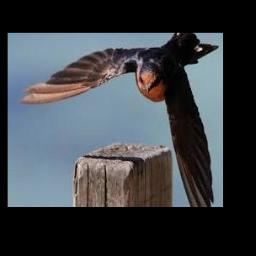Swallow: (21, 33, 219, 207)
